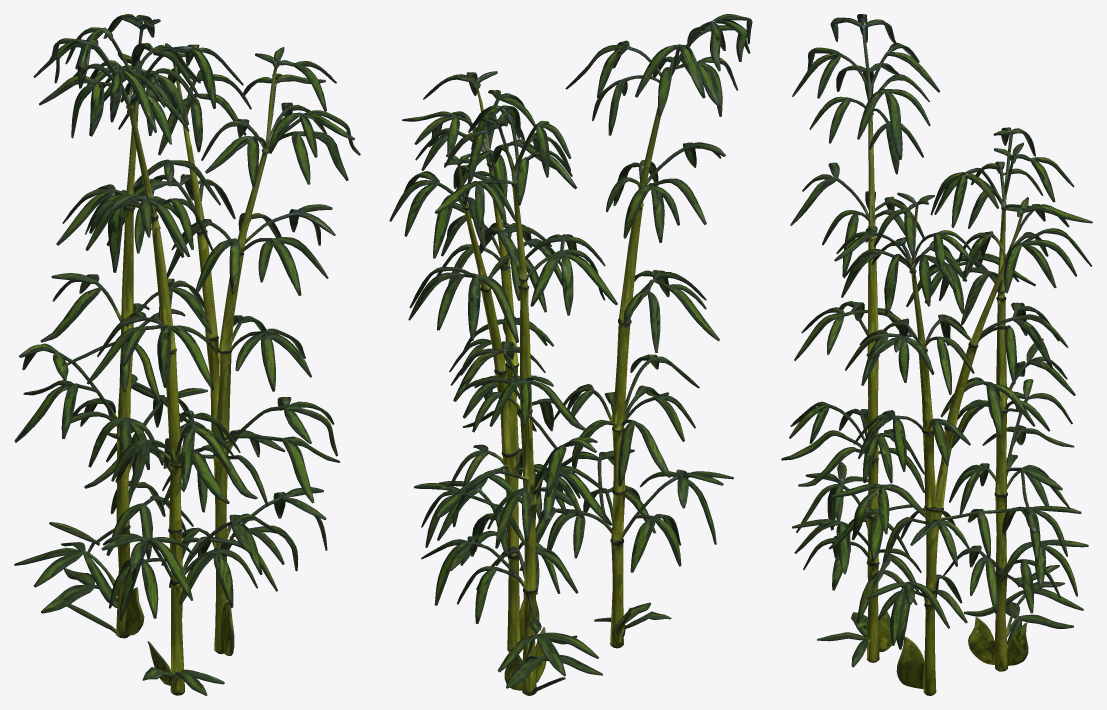
File: bamboo_plant.glb
The picture shows the model from 3 angles, left to right: view 1: azimuth 30°, elevation 25°; view 2: azimuth 150°, elevation 25°; view 3: azimuth 270°, elevation 25°; orthographic projection. The views are drawn at different scales.
Visible parts, largest first — view 1: tripo_node_936c104f-353b-4cfe-958a-04318c12c47f; view 2: tripo_node_936c104f-353b-4cfe-958a-04318c12c47f; view 3: tripo_node_936c104f-353b-4cfe-958a-04318c12c47f.
Boxes of the visible parts, x1,y1,x2,y2 form: tripo_node_936c104f-353b-4cfe-958a-04318c12c47f: (14, 14, 360, 695); tripo_node_936c104f-353b-4cfe-958a-04318c12c47f: (389, 14, 752, 695); tripo_node_936c104f-353b-4cfe-958a-04318c12c47f: (781, 14, 1092, 695).
Bounding box in the file's own units: 0.4808 × 0.9802 × 0.4622.
1 material, 1 textured.
